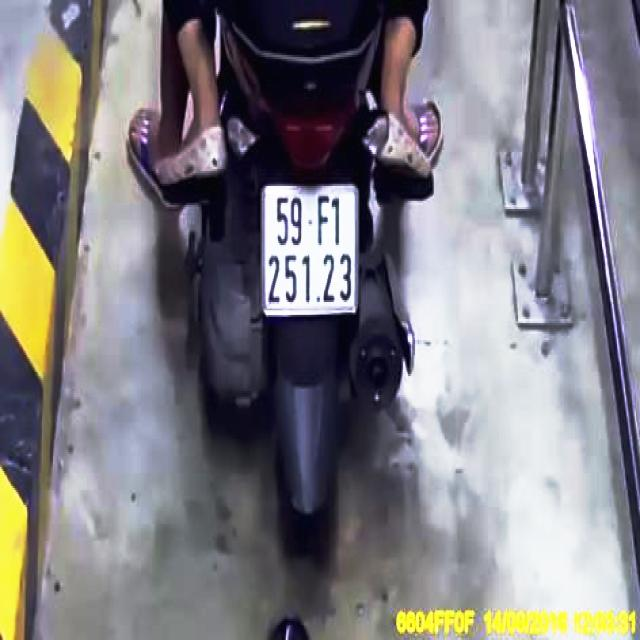license_plate: (264, 190, 358, 311)
